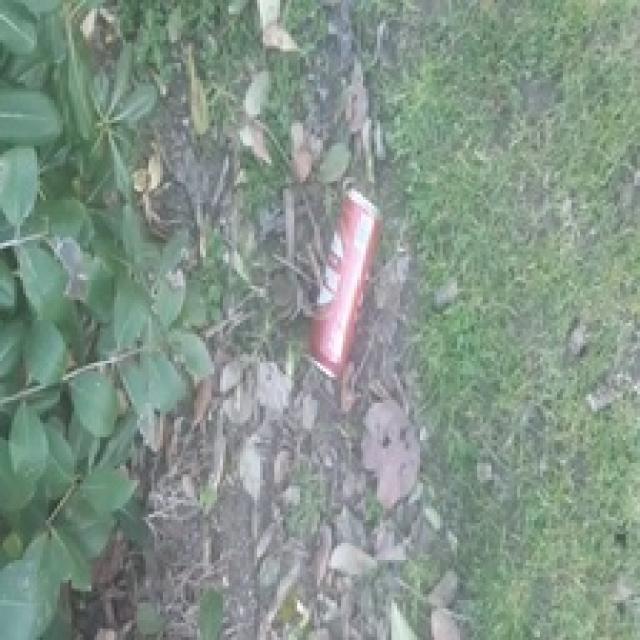recyclable: (303, 188, 379, 376)
